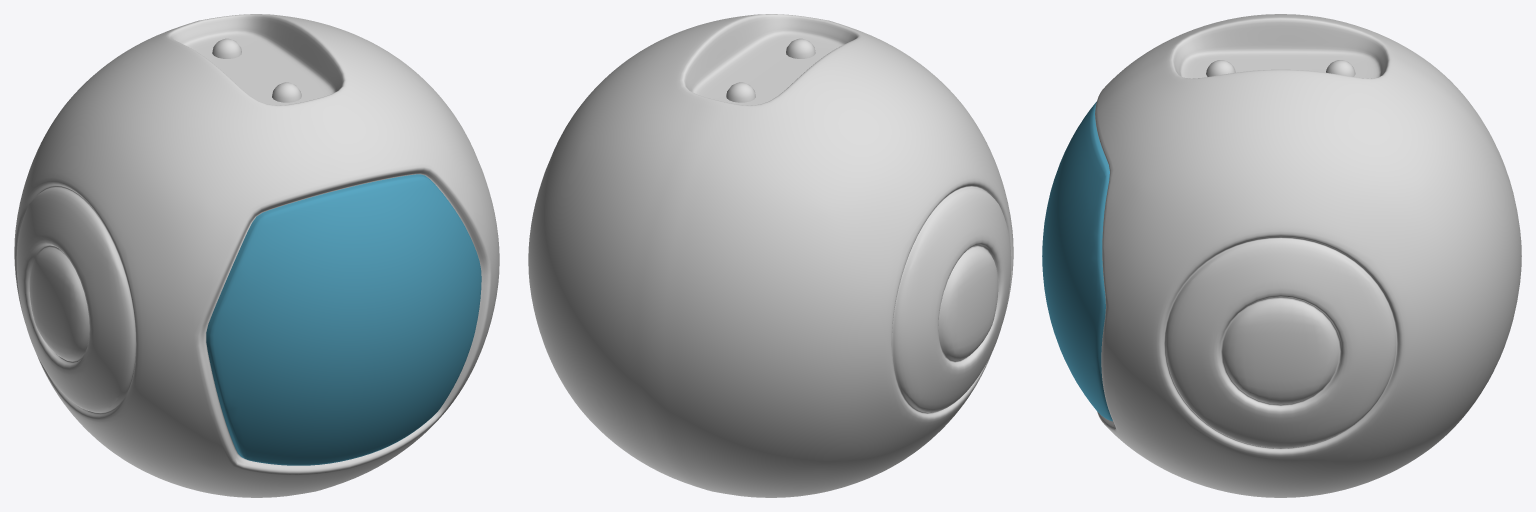
Rendered from CrusherCharacterBall.fbx.
3 views of the same model, side by side, from view 1: azimuth 30°, elevation 25°; view 2: azimuth 150°, elevation 25°; view 3: azimuth 270°, elevation 25° (orthographic).
Visible parts, largest first — view 1: CrusherBall_Ball, CrusherBall_Hologram, Sphere.001; view 2: CrusherBall_Ball, Sphere.001; view 3: CrusherBall_Ball, CrusherBall_Hologram, Sphere.001.
Boxes of the visible parts, box(x1,y1,x2,y2) form: CrusherBall_Ball: box(14, 14, 499, 497); CrusherBall_Hologram: box(206, 174, 481, 465); Sphere.001: box(212, 38, 301, 102); CrusherBall_Ball: box(528, 14, 1013, 497); Sphere.001: box(726, 38, 815, 102); CrusherBall_Ball: box(1042, 14, 1521, 497); CrusherBall_Hologram: box(1042, 101, 1112, 421); Sphere.001: box(1206, 60, 1355, 76).
Size of the model in its own units: 1.96 by 1.94 by 1.96.
